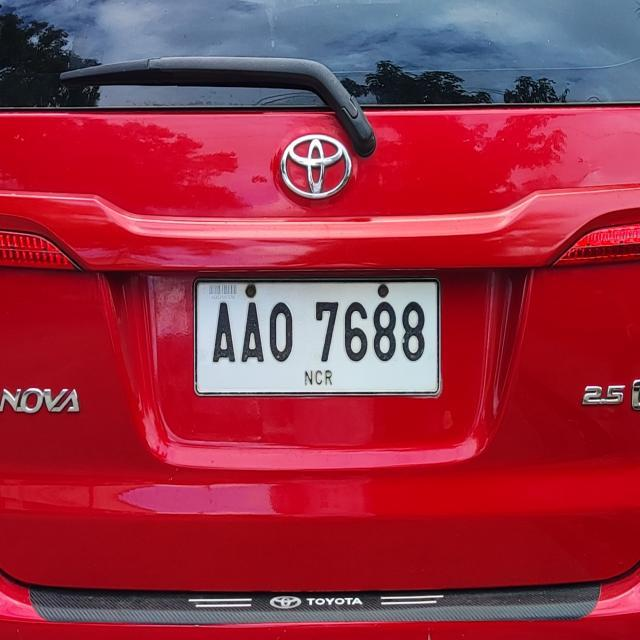LicensePlate: (182, 277, 449, 409)
